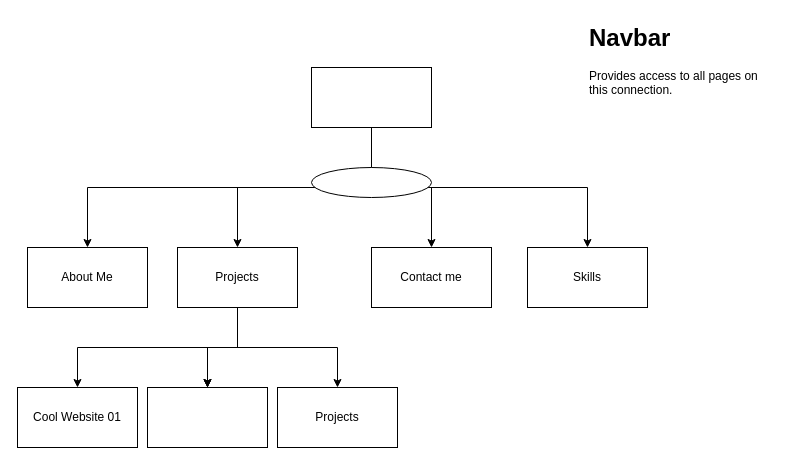
Image size: 785x465. Some labels were removed from this diagram. The shapes that lost their labels are listed below. From the top down, each one's centre as x and y in pixels, then its label:
At point (371, 97): "Home".
At point (371, 182): "Navbar".
At point (207, 417): "Cool Database".
